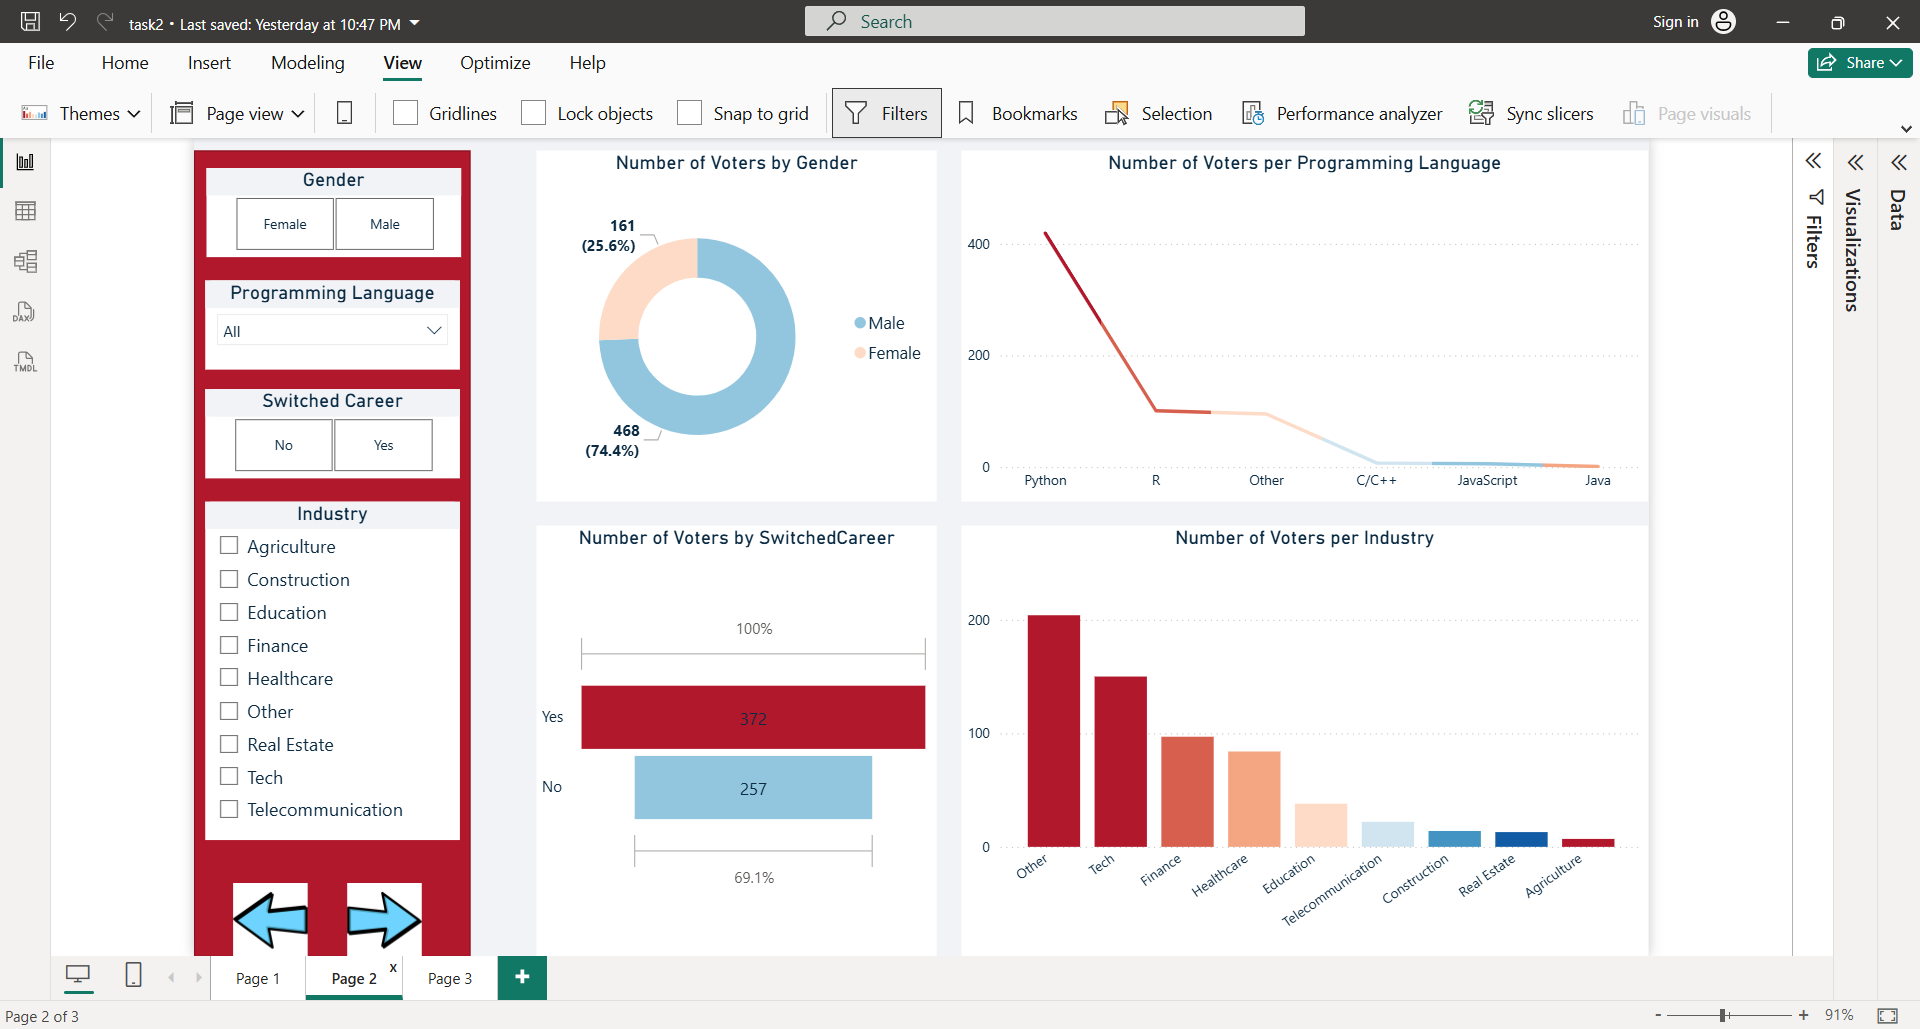

What the dashboard file says about the page in this screenshot:
{"tool":"powerbi","page":{"name":"Page 2","canvas":[1280,720],"ordinal":1},"visuals":[{"type":"donutChart","title":"Number of Voters by Gender","fields":{"Category":["Data Professional Survey (2).Gender"],"Y":["Data Professional Survey (2).No.Voters"]},"box":[301.4,10.9,352.3,308.7],"z":0},{"type":"clusteredColumnChart","title":"Number of Voters per Industry","fields":{"Category":["Data Professional Survey (2).Industry"],"Y":["Data Professional Survey (2).No.Voters"]},"box":[675.5,341.4,604,378.9],"z":1000},{"type":"lineChart","title":"Number of Voters per Programming Language","fields":{"Category":["Data Professional Survey (2).FavLanguage"],"Y":["Data Professional Survey (2).No.Voters"]},"box":[675.5,10.9,604,308.7],"z":2000},{"type":"funnel","title":"Number of Voters  by SwitchedCareer","fields":{"Category":["Data Professional Survey (2).SwitchedCareer"],"Y":["Data Professional Survey (2).No.Voters"]},"box":[301.4,341.4,352.3,378.9],"z":3000},{"type":"shape","box":[0,10.9,243.3,709.4],"z":4000},{"type":"slicer","title":"Gender","fields":{"Values":["Data Professional Survey (2).Gender"]},"box":[10.9,26.6,223.9,78.7],"z":5000},{"type":"slicer","title":"Programming Language","fields":{"Values":["Data Professional Survey (2).FavLanguage"]},"box":[9.7,125.9,223.9,78.7],"z":6000},{"type":"slicer","title":"Switched  Career","fields":{"Values":["Data Professional Survey (2).SwitchedCareer"]},"box":[9.7,221.5,223.9,78.7],"z":7000},{"type":"slicer","title":"Industry","fields":{"Values":["Data Professional Survey (2).Industry"]},"box":[9.7,319.6,223.9,297.8],"z":8000},{"type":"image","box":[101.7,654.9,133.2,65.4],"z":9000},{"type":"image","box":[0,654.9,134.4,65.4],"z":10000}]}

Visuals, with their boxes on the page's 1280x720 design canvas (x1, y1, x2, y2). These are canvas units, not pixel positions in the 1920x1029 screenshot, which may show the page scaled, cropped or inside an application window:
"Number of Voters by Gender" donutChart: <bbox>301, 11, 654, 320</bbox>
"Number of Voters per Industry" clusteredColumnChart: <bbox>676, 341, 1280, 720</bbox>
"Number of Voters per Programming Language" lineChart: <bbox>676, 11, 1280, 320</bbox>
"Number of Voters  by SwitchedCareer" funnel: <bbox>301, 341, 654, 720</bbox>
shape: <bbox>0, 11, 243, 720</bbox>
"Gender" slicer: <bbox>11, 27, 235, 105</bbox>
"Programming Language" slicer: <bbox>10, 126, 234, 205</bbox>
"Switched  Career" slicer: <bbox>10, 222, 234, 300</bbox>
"Industry" slicer: <bbox>10, 320, 234, 617</bbox>
image: <bbox>102, 655, 235, 720</bbox>
image: <bbox>0, 655, 134, 720</bbox>
